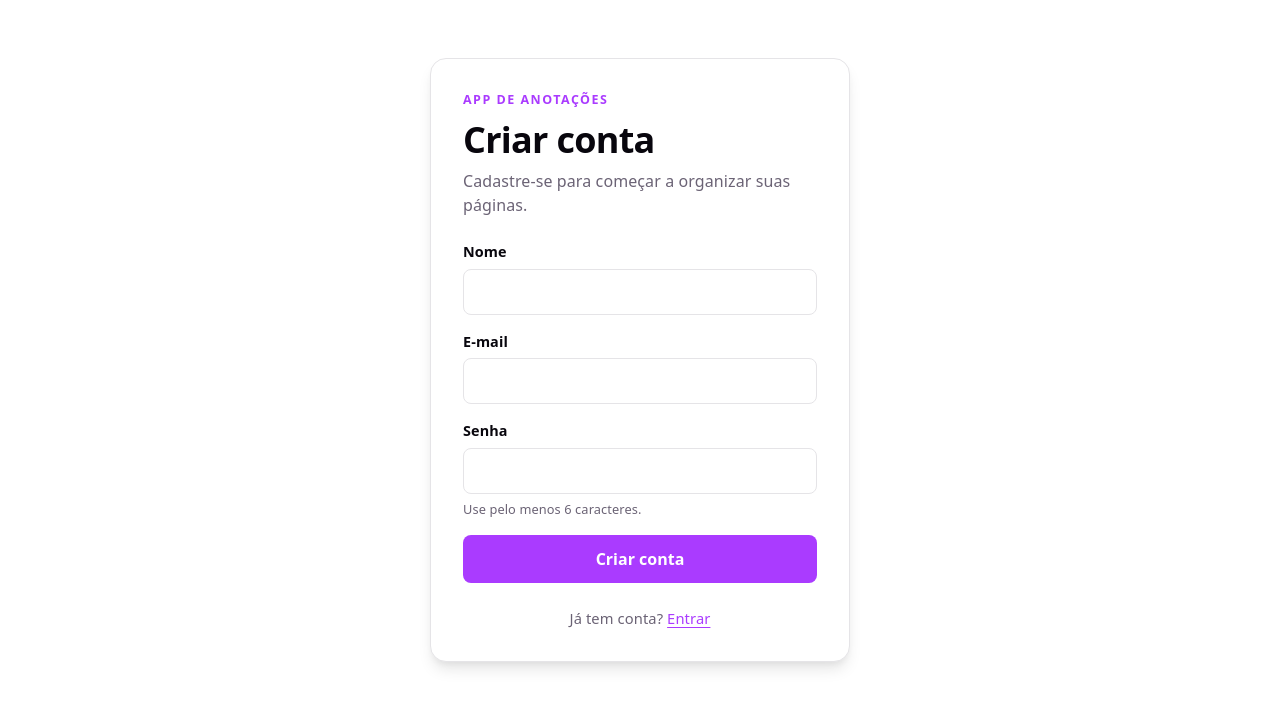
Test: autenticação › cadastro novo cria o usuário, autentica e redireciona para /
Type "Ana Souza" into the field labelled "Nome" at (640,292), box [463,268,817,314]
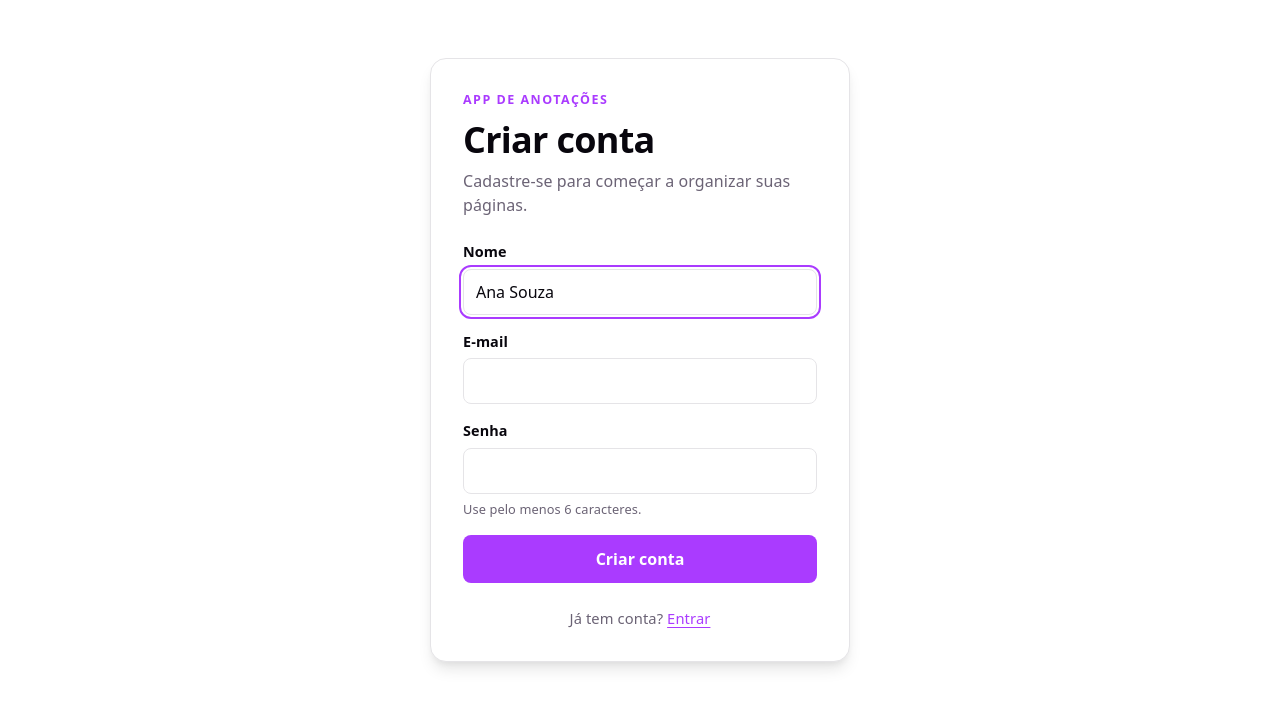
Type "Ana@Exemplo.com" into the field labelled "E-mail" at (640,381), box [463,358,817,404]
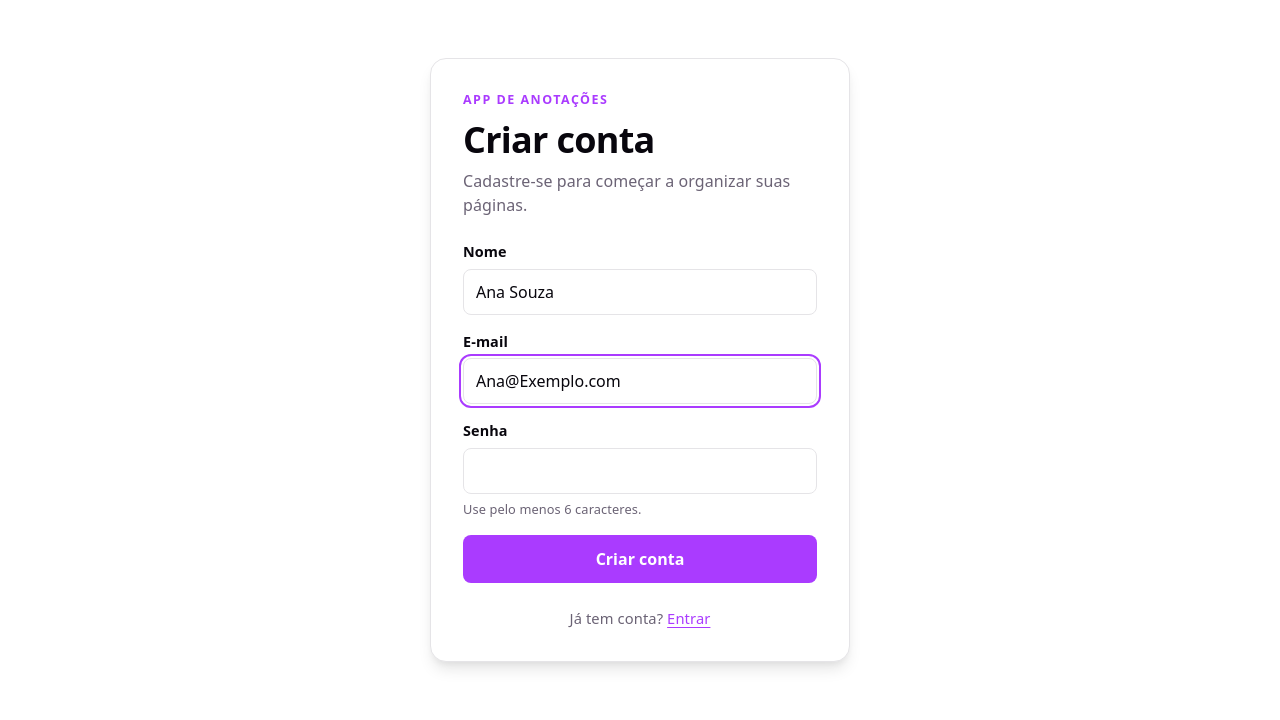
Type "senha123" into the password field labelled "Senha" at (640,471), box [463,448,817,494]
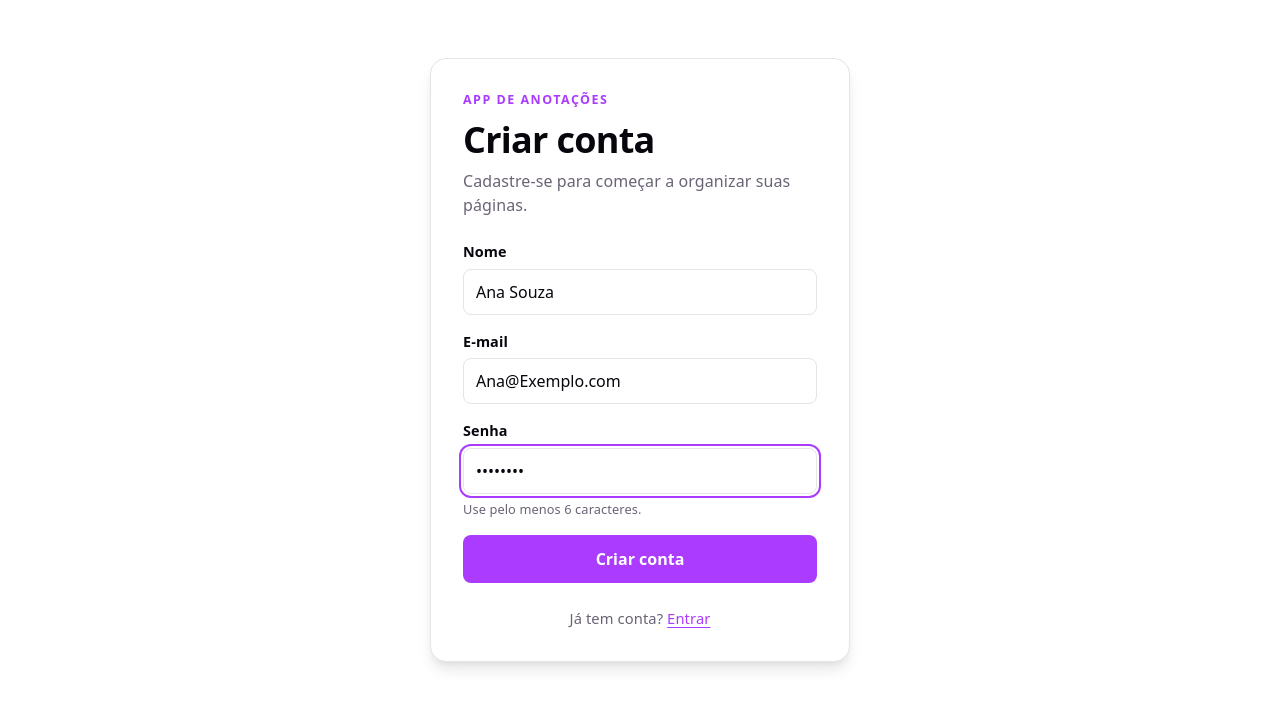
Click the button "Criar conta" at (640,559), box [463,535,817,583]
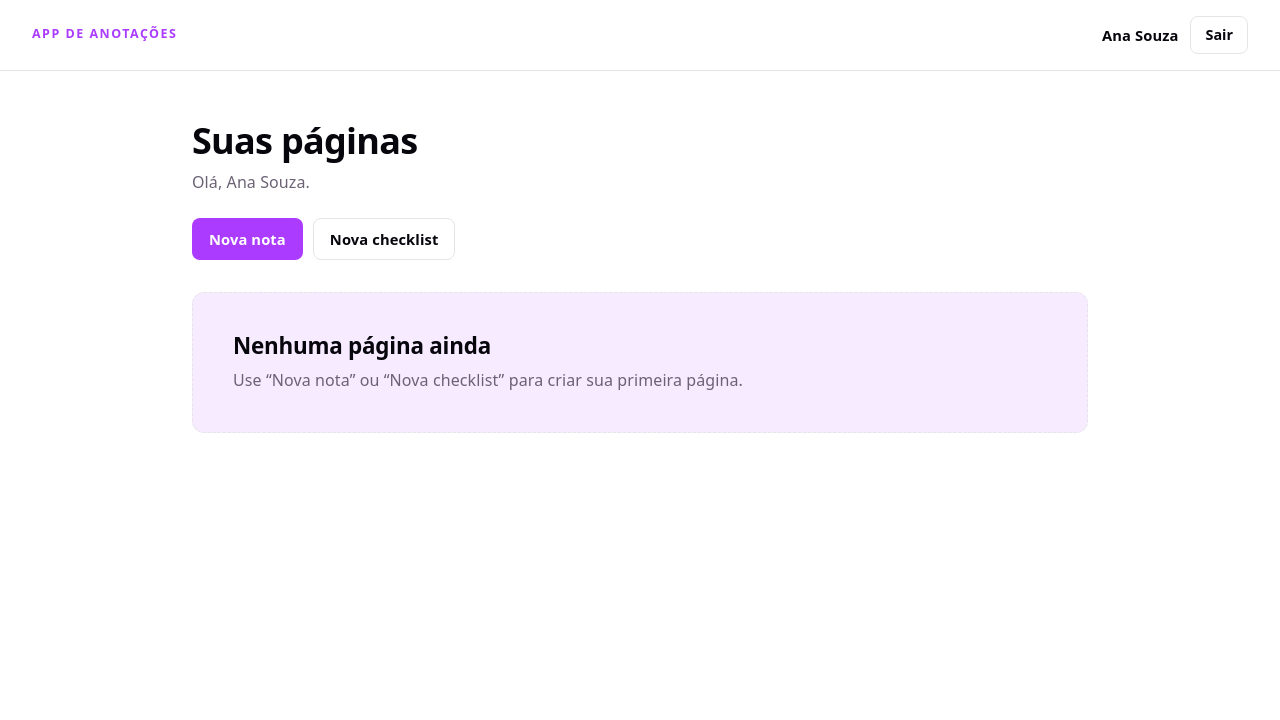
Expected: the heading "Suas páginas" is shown, [192,116,417,165]
Now the text "Olá, Ana Souza." is shown, box [192,171,310,193]
